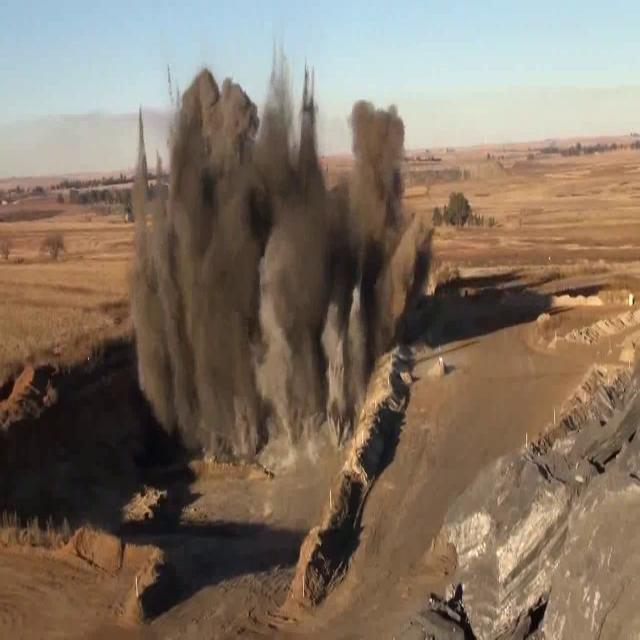explosion: (98, 34, 470, 538)
